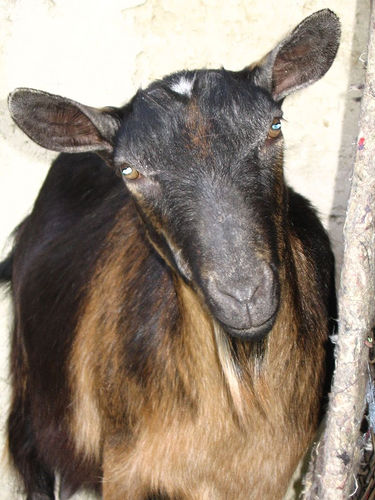goat: (2, 7, 343, 500)
